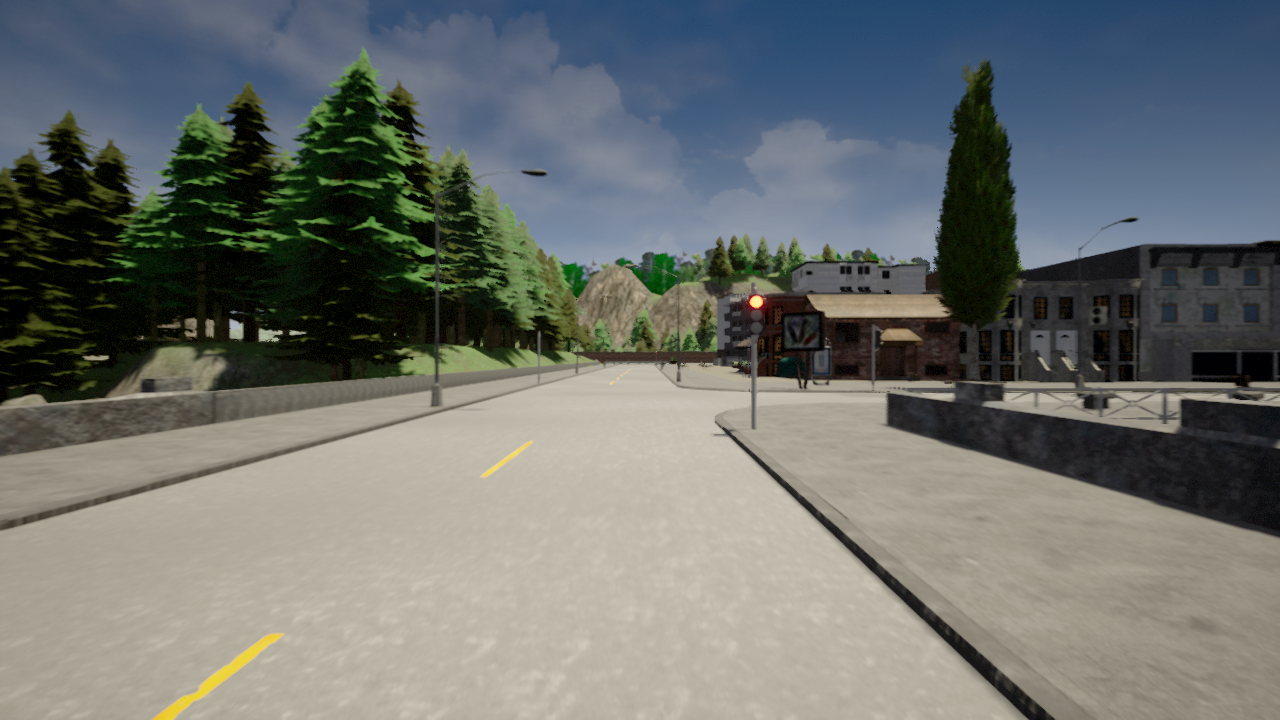red: (746, 293, 764, 337)
